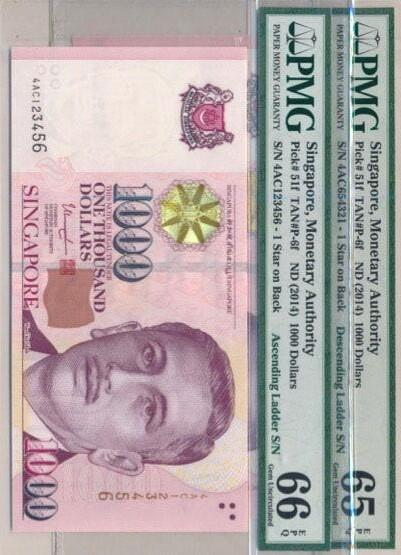1000SingaporeDollar: (11, 50, 249, 532)
